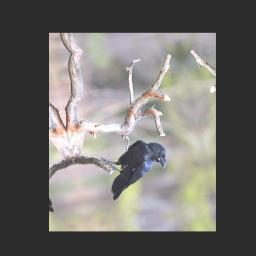Crow: (98, 135, 175, 203)
